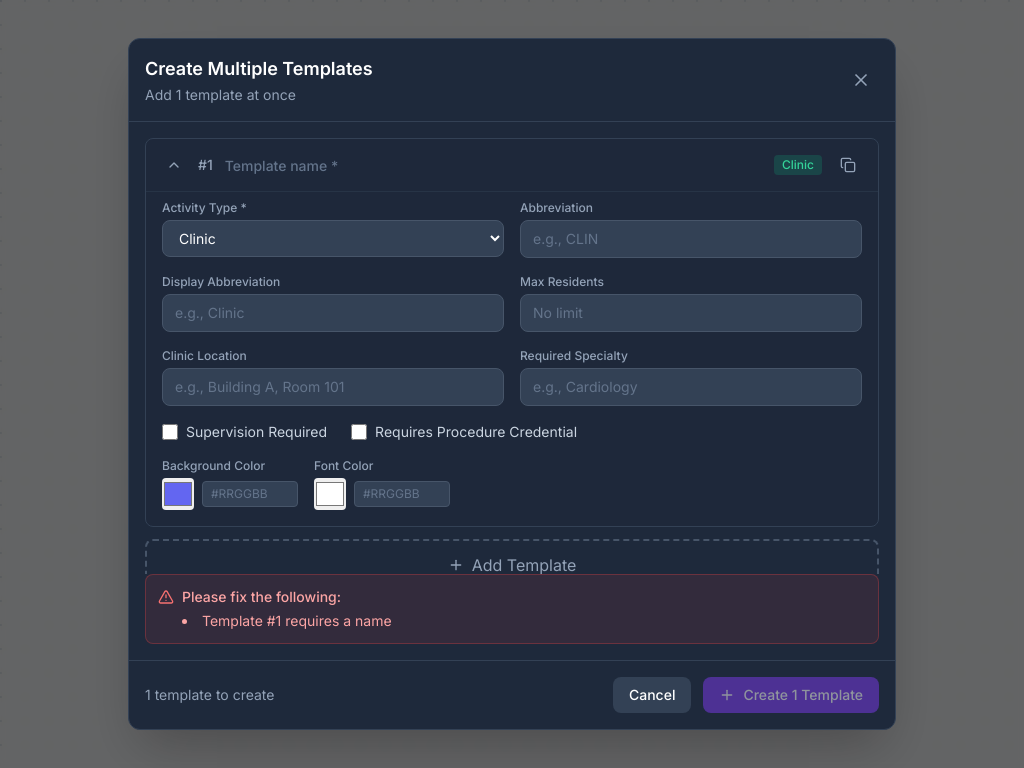
BulkCreateModal › Template Expansion › should toggle template expansion when clicking header
expect the text "Activity Type *" is shown: met, box [162, 200, 247, 215]
// Click to collapse (using the expand/collapse button label)
Click the button named "Collapse" at {"x": 174, "y": 165}, box [162, 153, 186, 177]
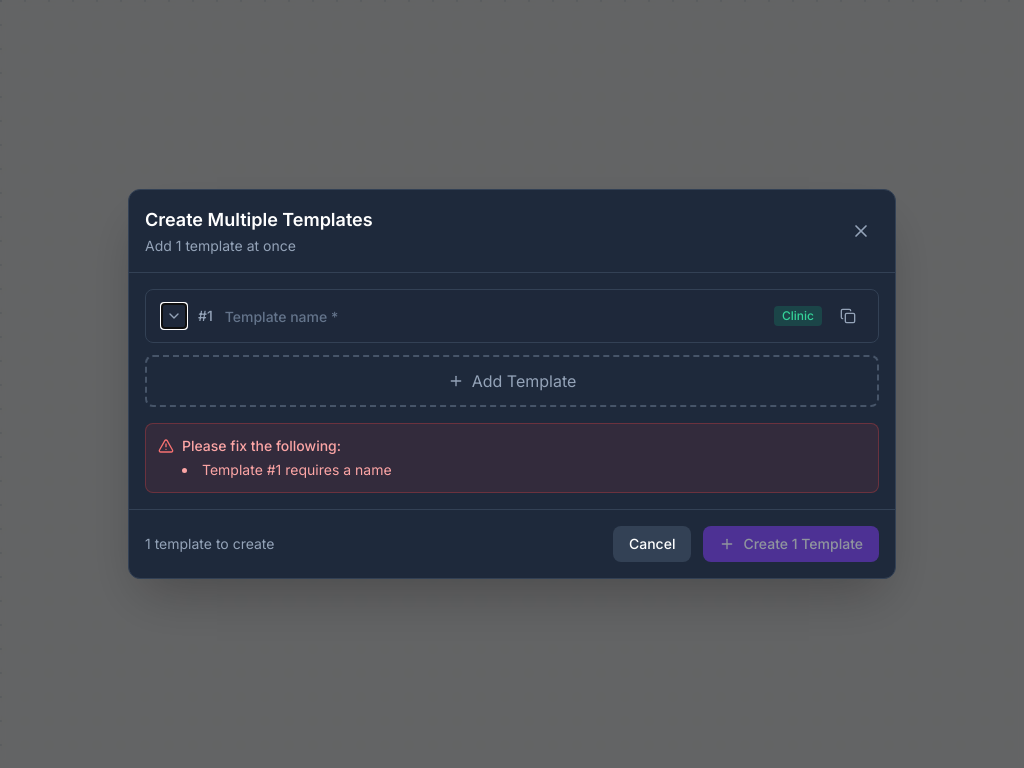
expect the text "Activity Type *" is gone: met
